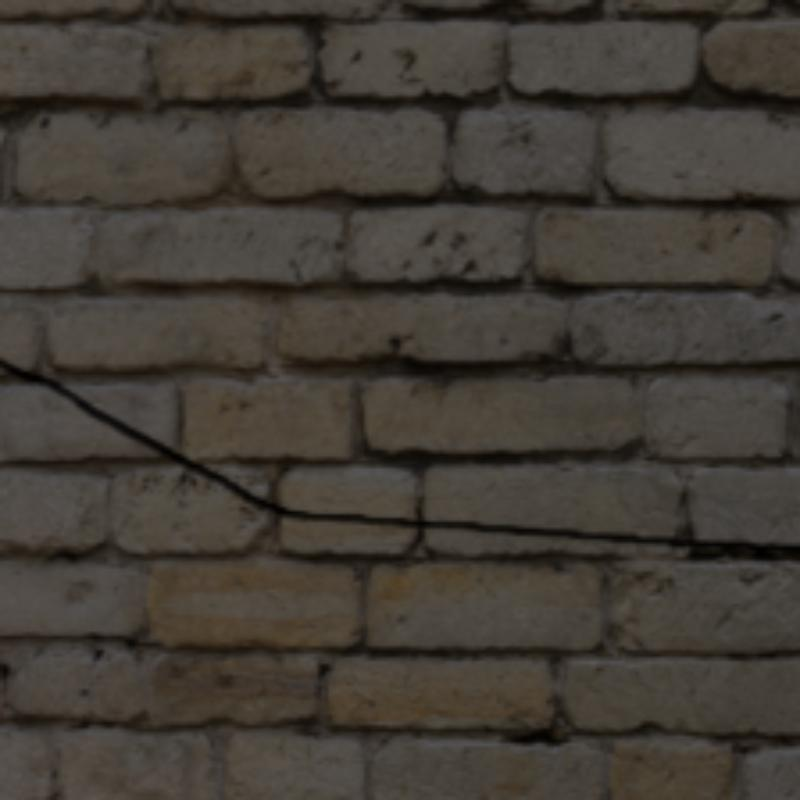crack: (0, 357, 796, 550)
